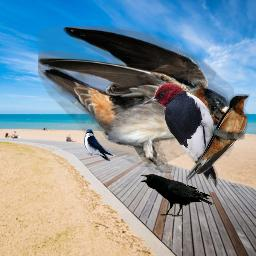Crow: (140, 174, 214, 217)
Swallow: (38, 26, 234, 173), (183, 93, 251, 181), (84, 129, 113, 161)
Woodpecker: (139, 81, 223, 187)
